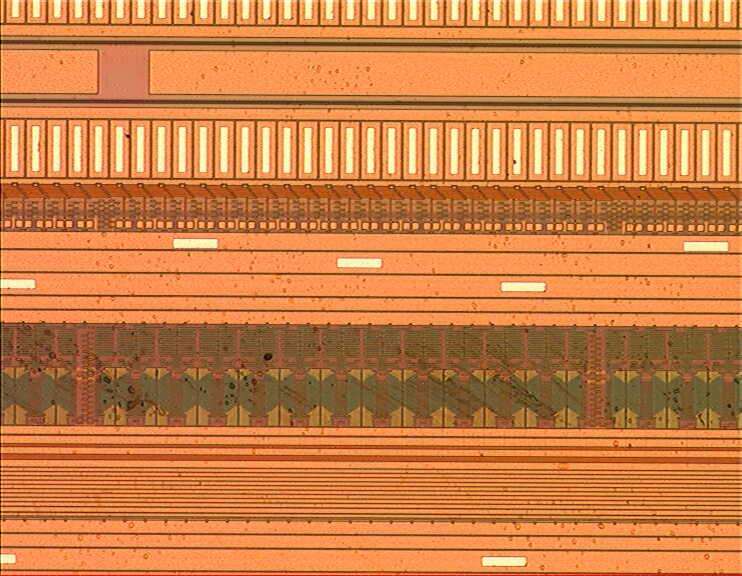PO CONTAMINATION: (15, 4, 742, 576)
